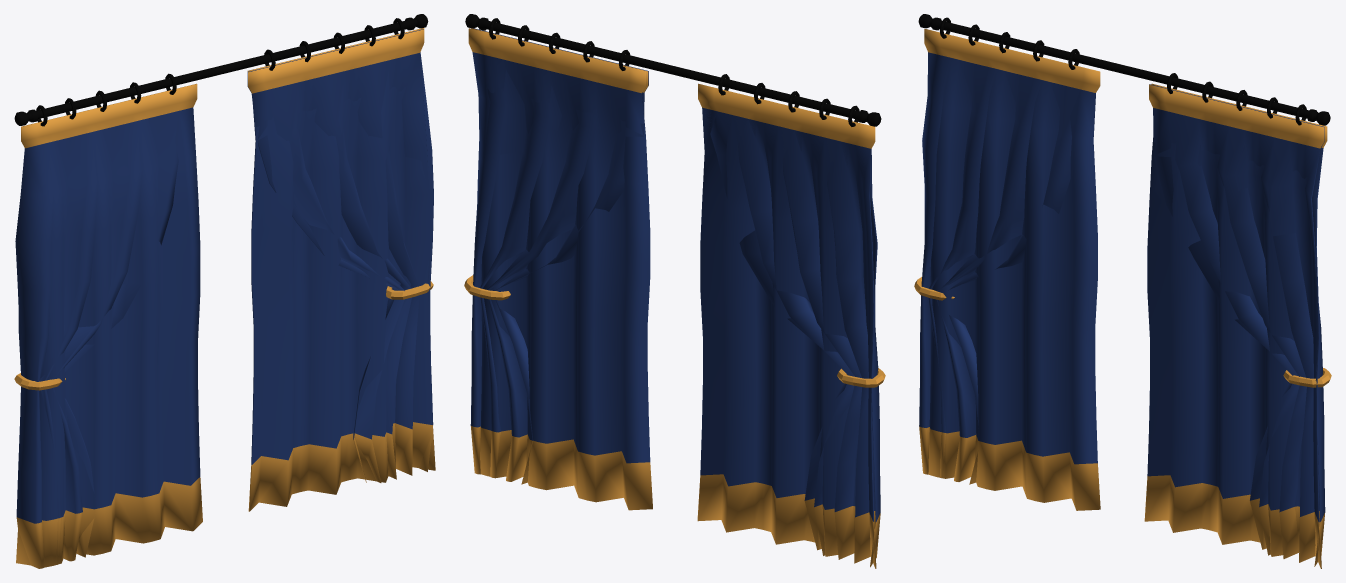
File: Curtains.fbx
3 views of the same model, side by side, from view 1: azimuth 30°, elevation 25°; view 2: azimuth 150°, elevation 25°; view 3: azimuth 330°, elevation 25° (orthographic).
Visible parts, largest first — view 1: RightCurtainLowerPoly, LeftCurtainLowerPoly, FoldedUpcurtainLeft, FoldedUpcurtainLeft.001, CurtainPole; view 2: RightCurtainLowerPoly, LeftCurtainLowerPoly, FoldedUpcurtainLeft, FoldedUpcurtainLeft.001, CurtainPole; view 3: LeftCurtainLowerPoly, RightCurtainLowerPoly, FoldedUpcurtainLeft.001, FoldedUpcurtainLeft, CurtainPole.
Boxes of the visible parts, box(x1,y1,x2,y2) form: RightCurtainLowerPoly: box(247, 28, 435, 511); LeftCurtainLowerPoly: box(16, 83, 202, 567); FoldedUpcurtainLeft: box(15, 111, 178, 568); FoldedUpcurtainLeft.001: box(247, 29, 433, 482); CurtainPole: box(14, 14, 428, 125); RightCurtainLowerPoly: box(468, 28, 652, 510); LeftCurtainLowerPoly: box(697, 83, 876, 568); FoldedUpcurtainLeft: box(703, 109, 880, 567); FoldedUpcurtainLeft.001: box(470, 28, 648, 484); CurtainPole: box(465, 14, 881, 126); LeftCurtainLowerPoly: box(924, 29, 1100, 510); RightCurtainLowerPoly: box(1144, 83, 1327, 568); FoldedUpcurtainLeft.001: box(1149, 84, 1325, 566); FoldedUpcurtainLeft: box(919, 52, 1080, 484); CurtainPole: box(918, 14, 1330, 125).
Size of the model in its own units: 468 by 492 by 40.01.
Materials: 8 (6 with a texture image).
